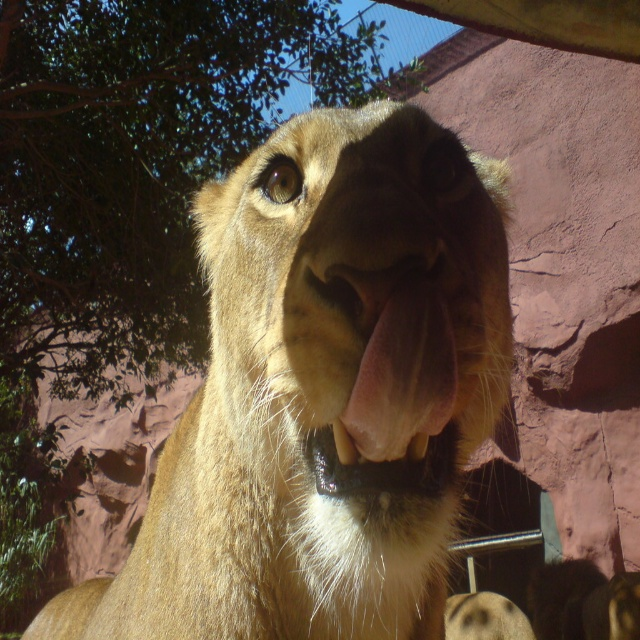Lion: (19, 28, 570, 640)
